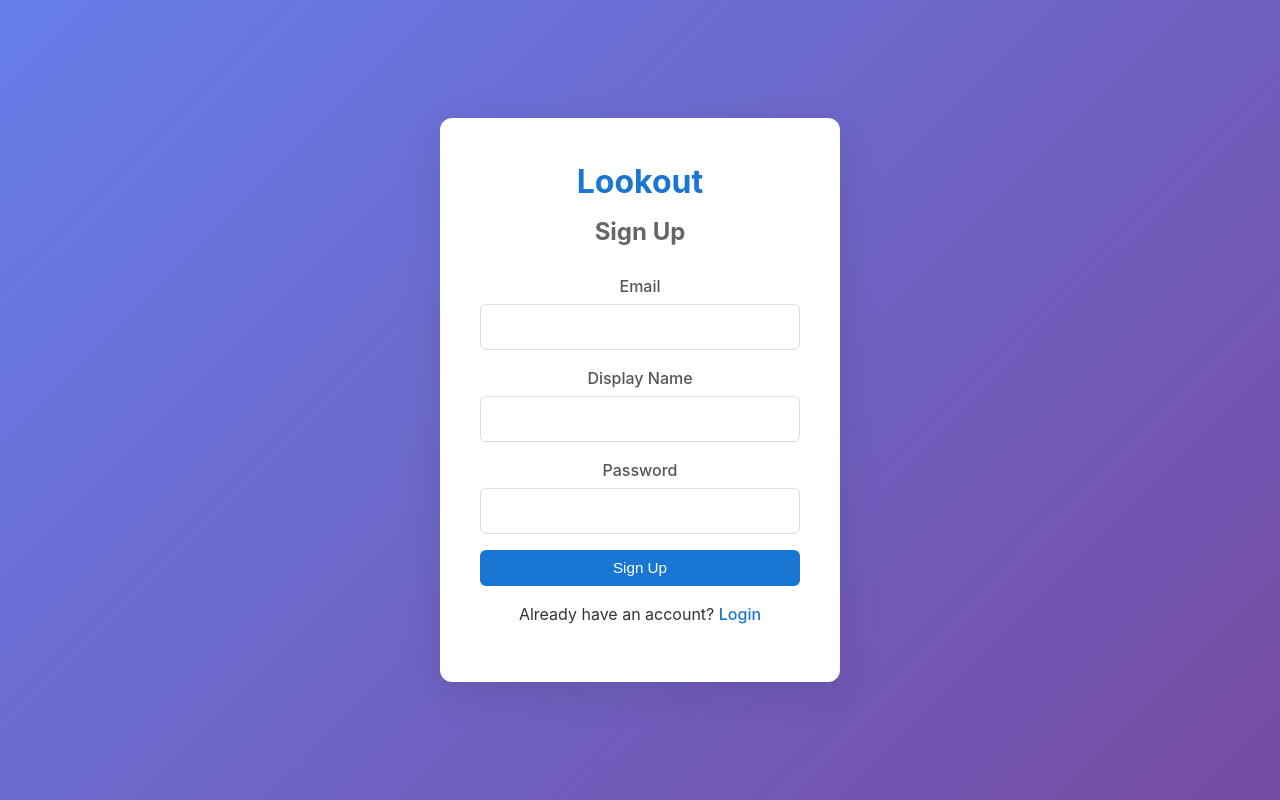
SignupPage › should display error message on signup failure
Type "existing@example.com" into the field labelled "Email" at x=640, y=327, box [480,304,800,350]
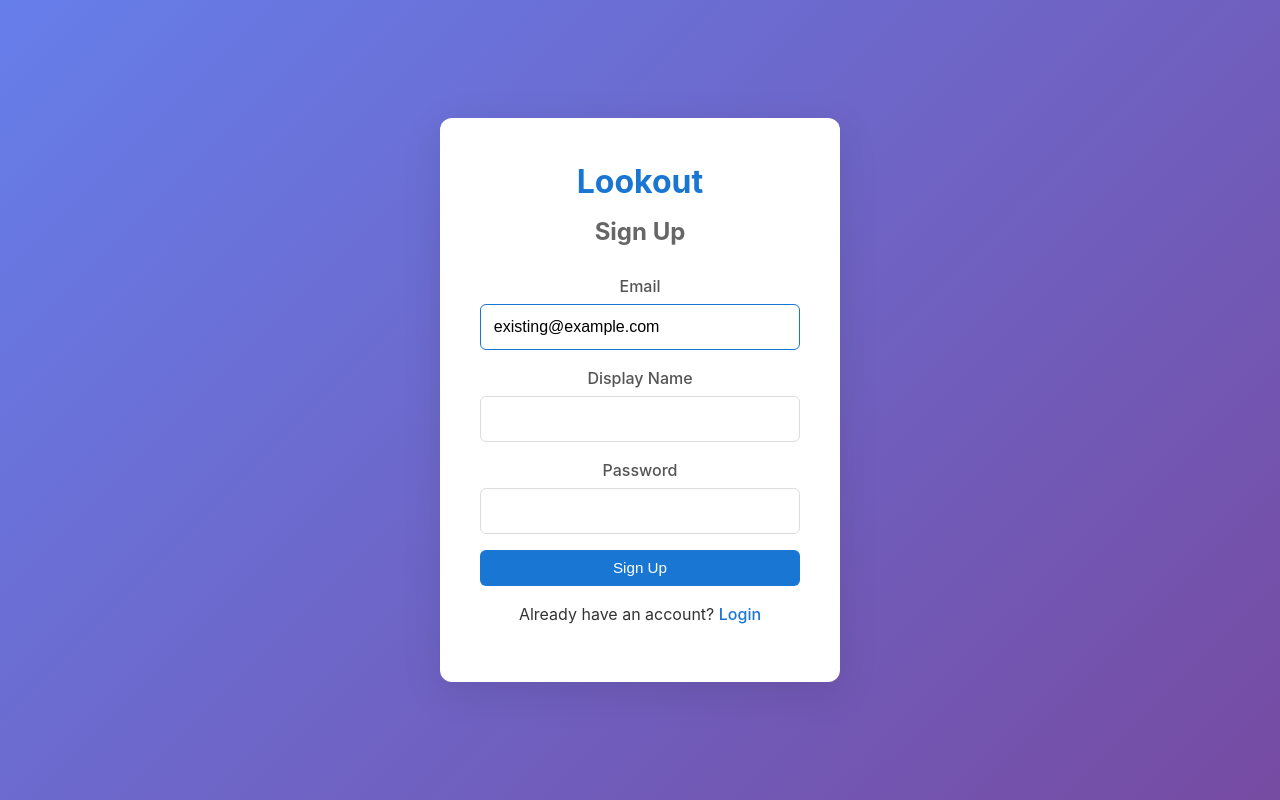
Type "password123" into the password field labelled "Password" at x=640, y=511, box [480,488,800,534]
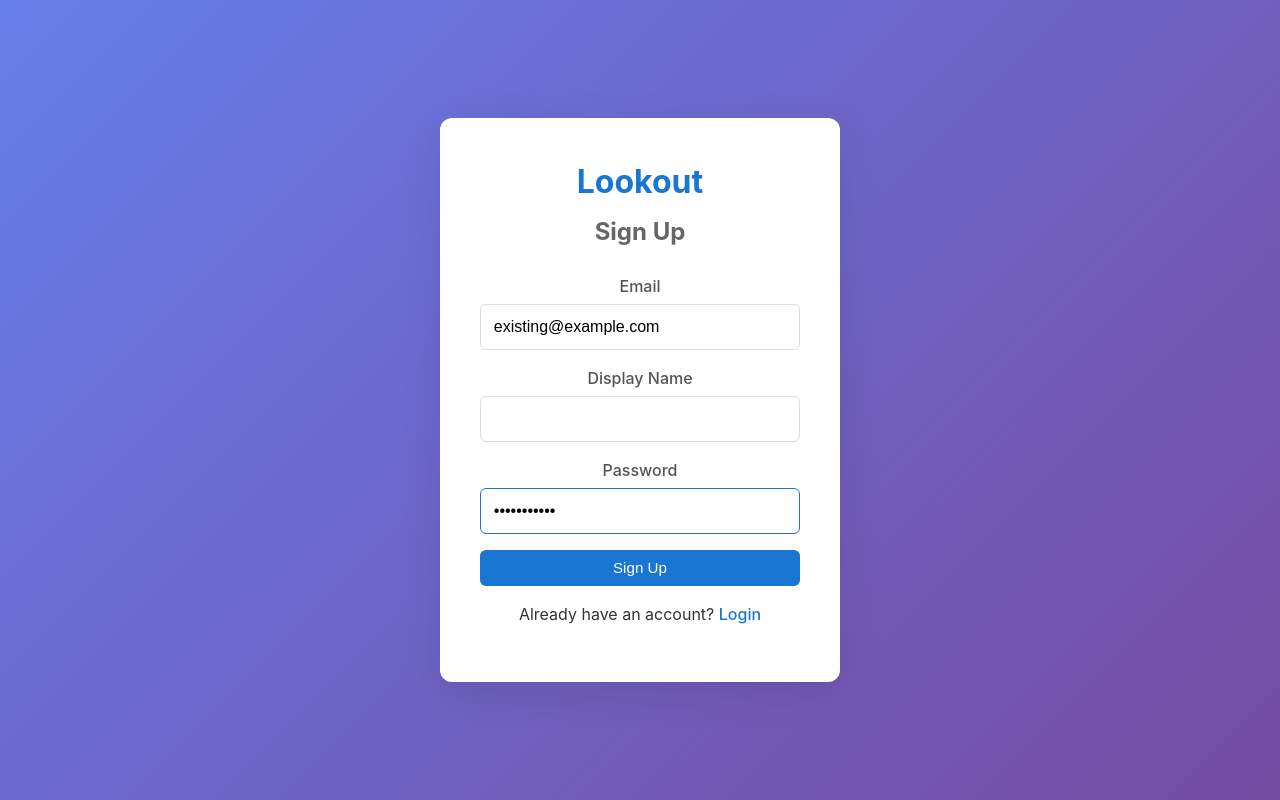
Click the button "Sign Up" at x=640, y=568, box [480,550,800,586]
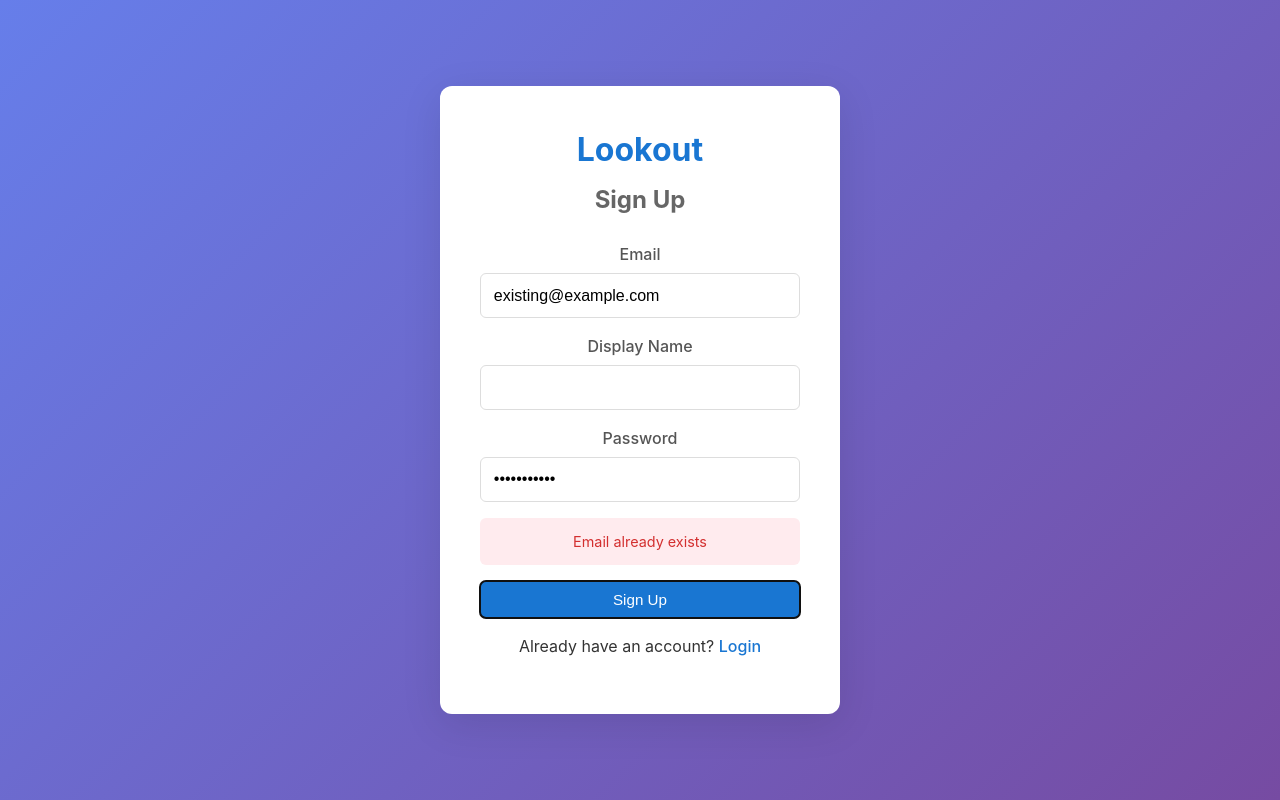
Check: the text "Email already exists" is shown, box [480,518,800,566]
